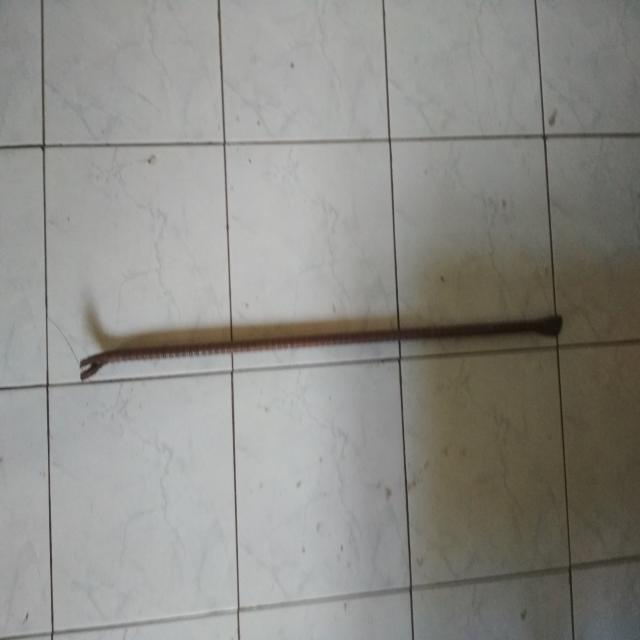Linggis: (80, 305, 564, 393)
